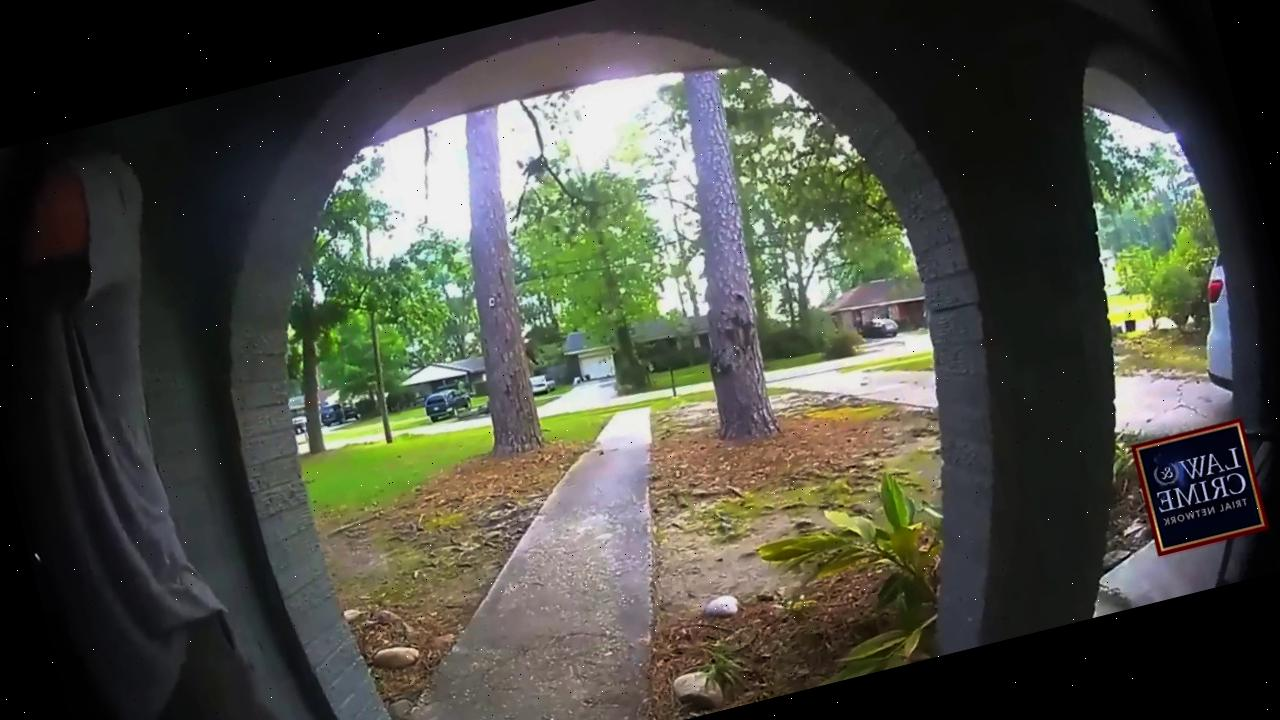suspicion: (0, 111, 325, 720)
